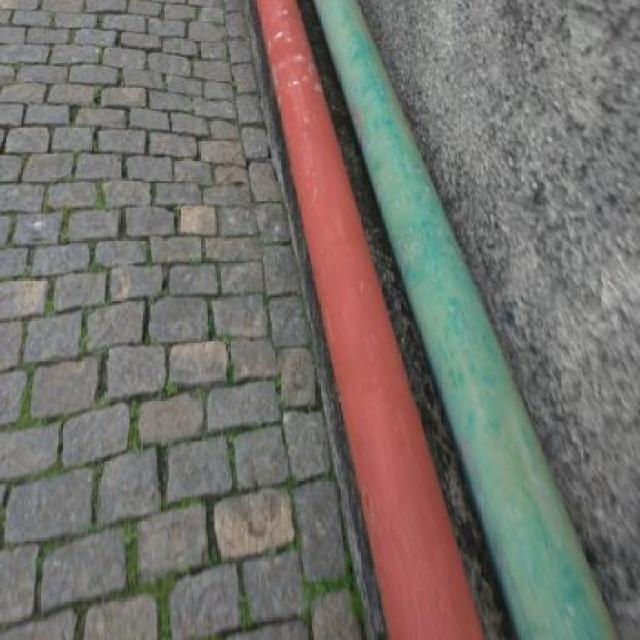gas: (318, 6, 619, 633), (256, 5, 483, 632)
